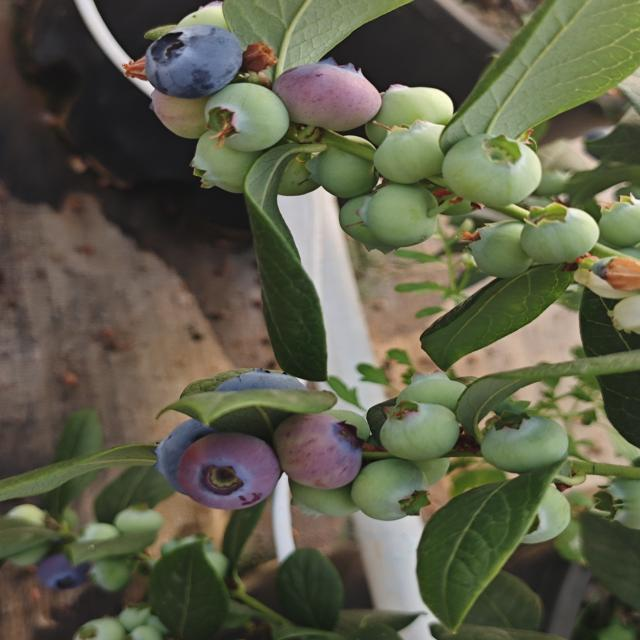ripe: (152, 416, 283, 512), (141, 22, 246, 100), (206, 360, 308, 421), (32, 552, 94, 592)
